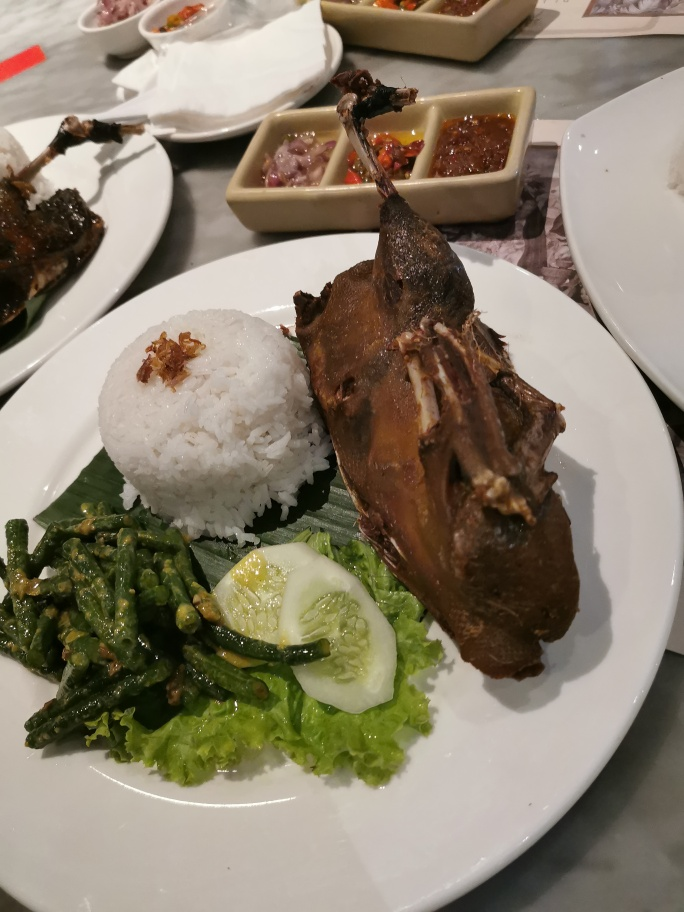bebek goreng: (295, 58, 603, 696)
nasi putih: (88, 307, 330, 541)
